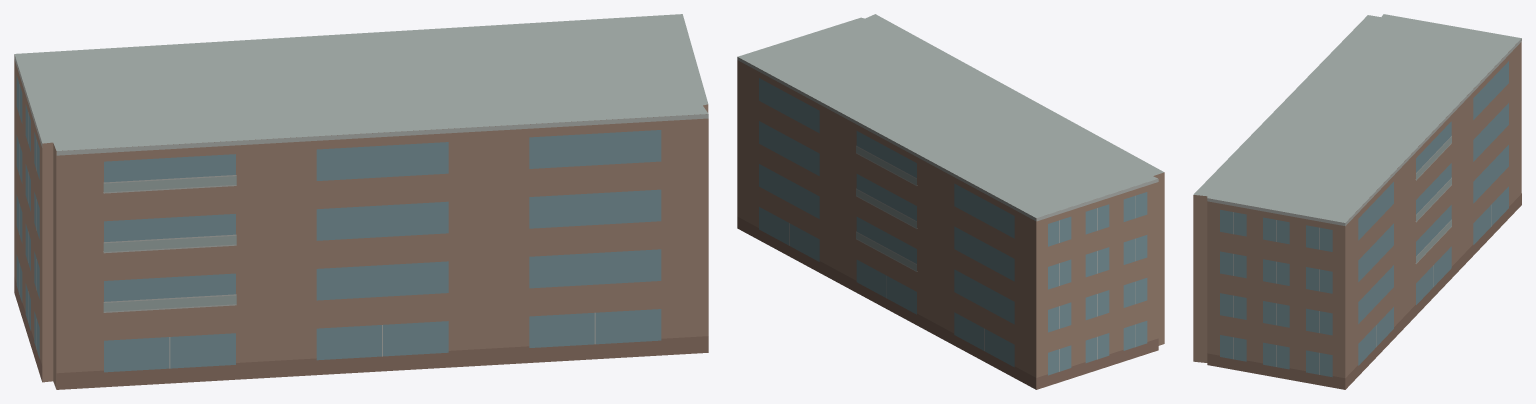
The model's file is survey-upis-32758109.glb.
3 views of the same model, side by side, from view 1: azimuth 30°, elevation 25°; view 2: azimuth 150°, elevation 25°; view 3: azimuth 270°, elevation 25° (orthographic). The views are drawn at different scales.
Visible parts, largest first — view 1: survey-upis-32758109.tmp; view 2: survey-upis-32758109.tmp; view 3: survey-upis-32758109.tmp.
Boxes of the visible parts, bbox=[...] form: survey-upis-32758109.tmp: bbox=[14, 14, 708, 389]; survey-upis-32758109.tmp: bbox=[737, 14, 1164, 389]; survey-upis-32758109.tmp: bbox=[1193, 14, 1521, 389].
Size of the model in its own units: 34.4 by 12.8 by 22.85.
